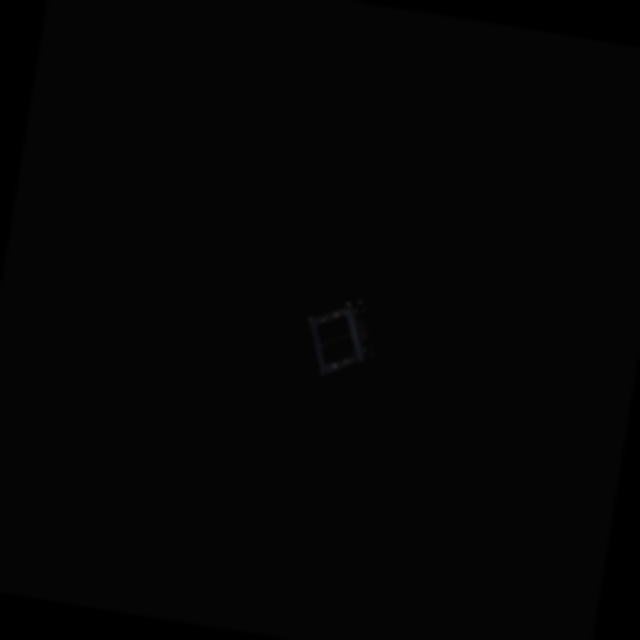satellite: (293, 284, 382, 383)
